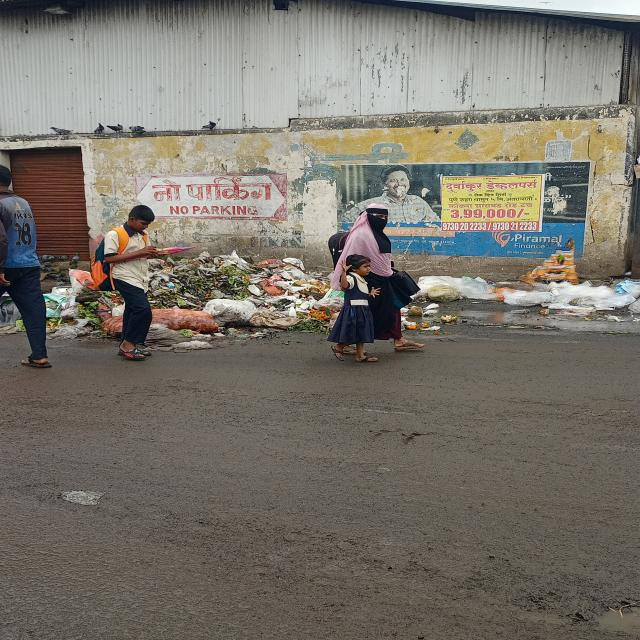garbage: (153, 259, 335, 339), (421, 272, 640, 319), (48, 269, 110, 347)
